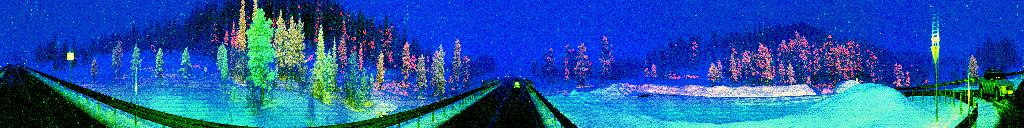pole: (966, 66, 971, 116), (132, 65, 138, 101)
